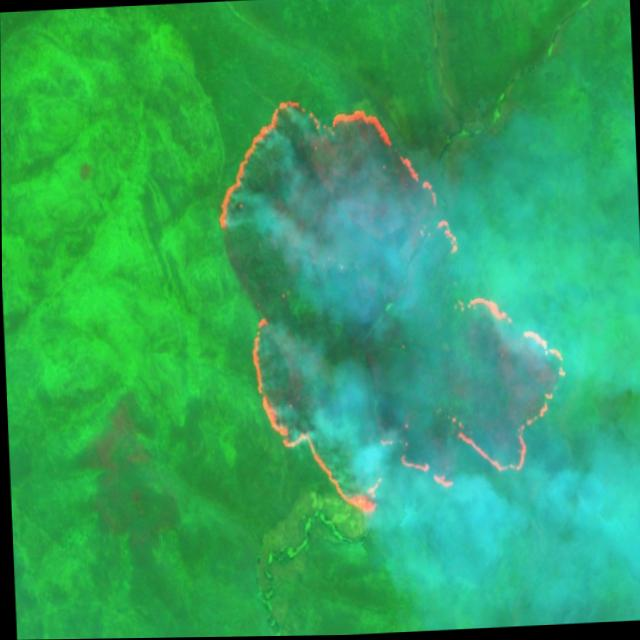fire: (208, 76, 572, 530)
